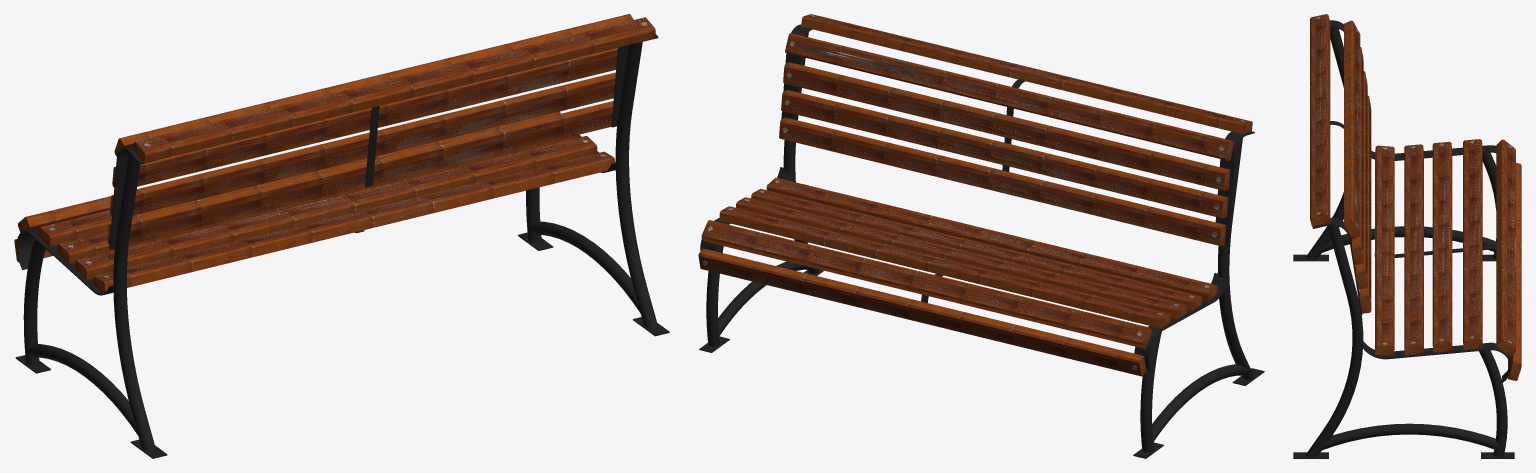
The picture shows the model from 3 angles, left to right: view 1: azimuth 30°, elevation 25°; view 2: azimuth 150°, elevation 25°; view 3: azimuth 270°, elevation 25°; orthographic projection. The views are drawn at different scales.
Visible parts, largest first — view 1: mesh3_mesh3-geometry, mesh14_mesh14-geometry, mesh4_mesh4-geometry, mesh21_mesh21-geometry, mesh20_mesh20-geometry, mesh10_mesh10-geometry, mesh1_mesh1-geometry; view 2: mesh3_mesh3-geometry, mesh14_mesh14-geometry, mesh4_mesh4-geometry, mesh20_mesh20-geometry, mesh21_mesh21-geometry, mesh24_mesh24-geometry; view 3: mesh3_mesh3-geometry, mesh4_mesh4-geometry, mesh14_mesh14-geometry, mesh11_mesh11-geometry, mesh21_mesh21-geometry, mesh10_mesh10-geometry.
Part boxes in pixels (bbox=[...]): mesh3_mesh3-geometry: bbox=[14, 14, 655, 292]; mesh14_mesh14-geometry: bbox=[23, 152, 155, 450]; mesh4_mesh4-geometry: bbox=[526, 42, 657, 328]; mesh21_mesh21-geometry: bbox=[16, 227, 113, 295]; mesh20_mesh20-geometry: bbox=[109, 146, 155, 249]; mesh10_mesh10-geometry: bbox=[611, 33, 658, 127]; mesh1_mesh1-geometry: bbox=[365, 100, 402, 187]; mesh3_mesh3-geometry: bbox=[698, 14, 1252, 376]; mesh14_mesh14-geometry: bbox=[1140, 138, 1254, 452]; mesh4_mesh4-geometry: bbox=[706, 32, 820, 346]; mesh20_mesh20-geometry: bbox=[1215, 131, 1254, 244]; mesh21_mesh21-geometry: bbox=[1134, 273, 1228, 372]; mesh24_mesh24-geometry: bbox=[800, 38, 920, 76]; mesh3_mesh3-geometry: bbox=[1310, 14, 1521, 380]; mesh4_mesh4-geometry: bbox=[1305, 225, 1507, 457]; mesh14_mesh14-geometry: bbox=[1305, 27, 1496, 259]; mesh11_mesh11-geometry: bbox=[1361, 341, 1511, 383]; mesh21_mesh21-geometry: bbox=[1371, 145, 1496, 160]; mesh10_mesh10-geometry: bbox=[1312, 218, 1362, 315].
Size of the model in its own units: 0.8078 by 0.4486 by 0.3823.
